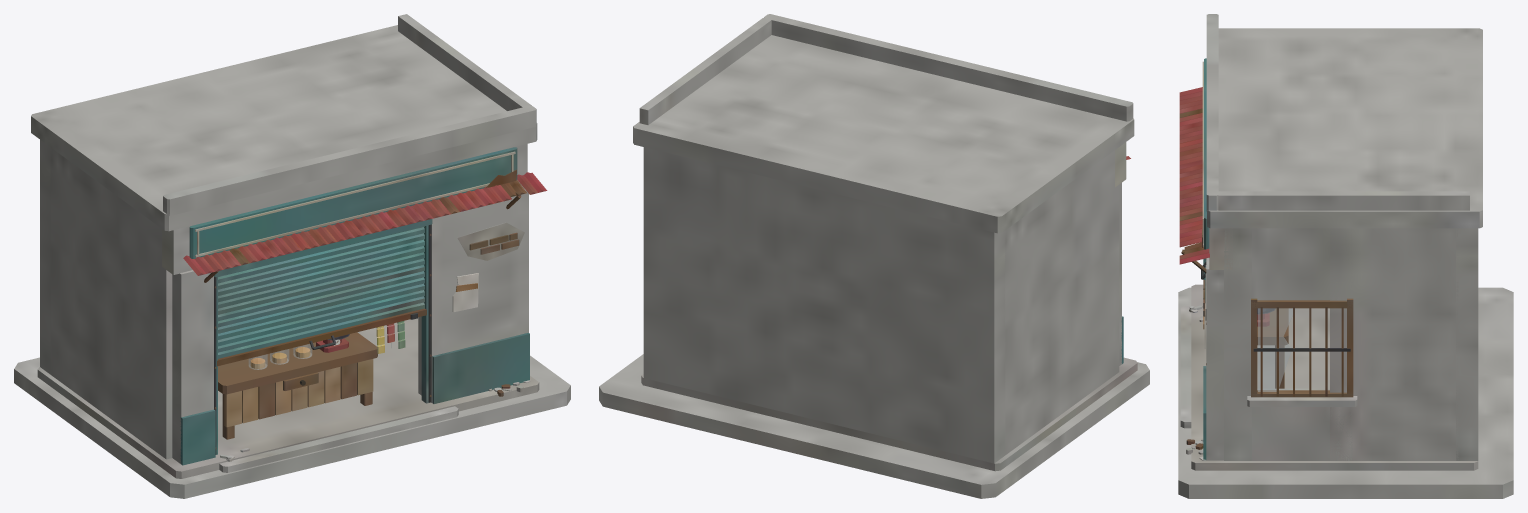
File: R10_kirana_shop_front.glb
3 renders of one model, left to right at view 1: azimuth 30°, elevation 25°; view 2: azimuth 150°, elevation 25°; view 3: azimuth 270°, elevation 25°, orthographic.
Parts seen in each view (by area): view 1: Kirana shop front; view 2: Kirana shop front; view 3: Kirana shop front.
Boxes of the visible parts, box(x1,y1,x2,y2) form: Kirana shop front: box(14, 14, 570, 498); Kirana shop front: box(599, 14, 1149, 498); Kirana shop front: box(1178, 14, 1513, 498).
Bounding box in the file's own units: 5 × 3.45 × 3.6.
Materials: 21 (20 with a texture image).
